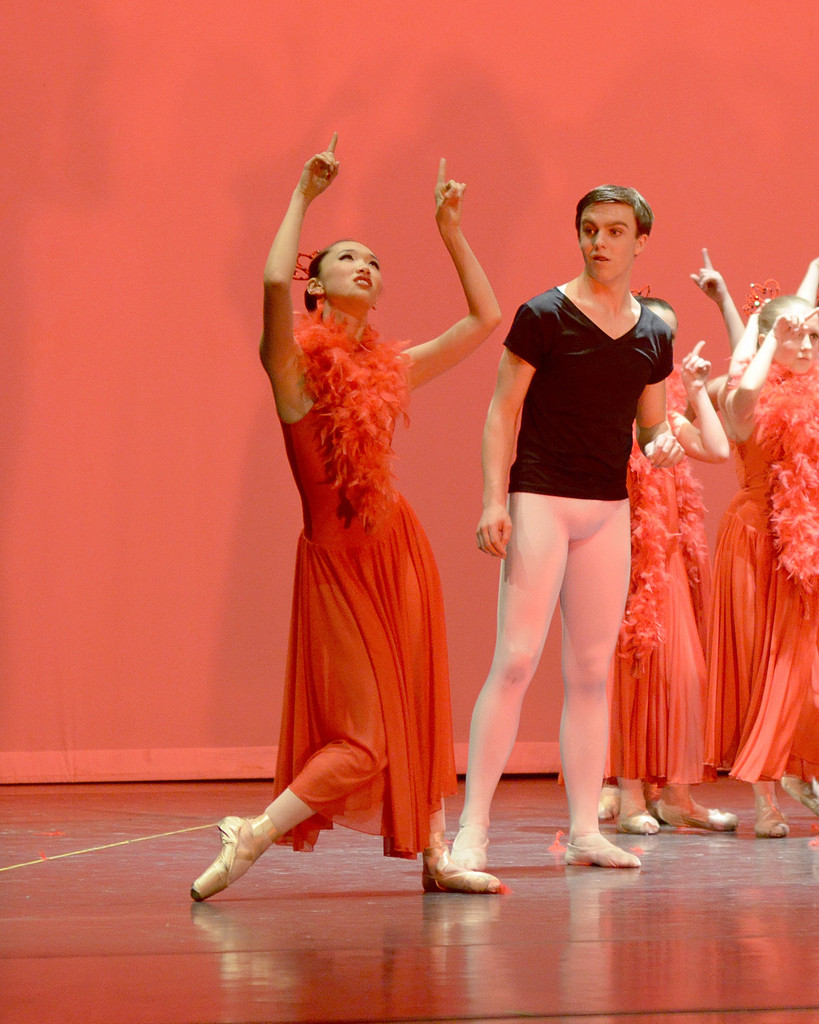Person: (453, 181, 819, 871), (195, 131, 507, 899)
